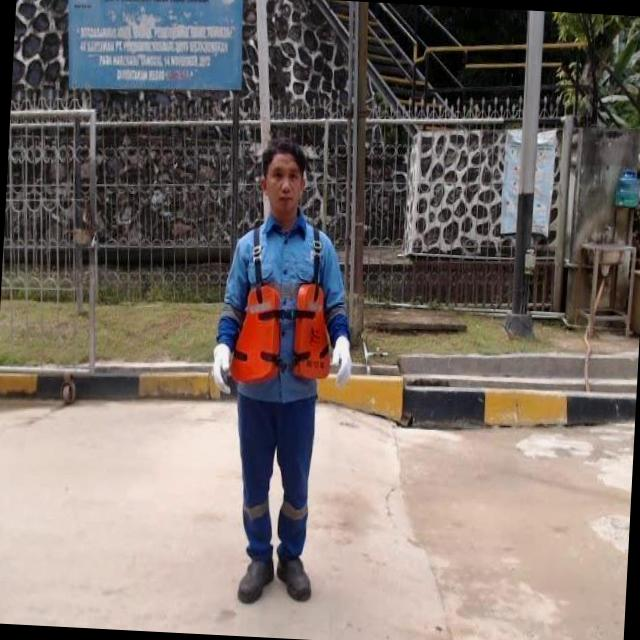boots: (237, 546, 277, 608), (276, 549, 318, 605)
gloves: (199, 330, 240, 395), (322, 331, 364, 384)
no-helmet: (248, 129, 326, 240)
vest: (230, 280, 336, 388)
